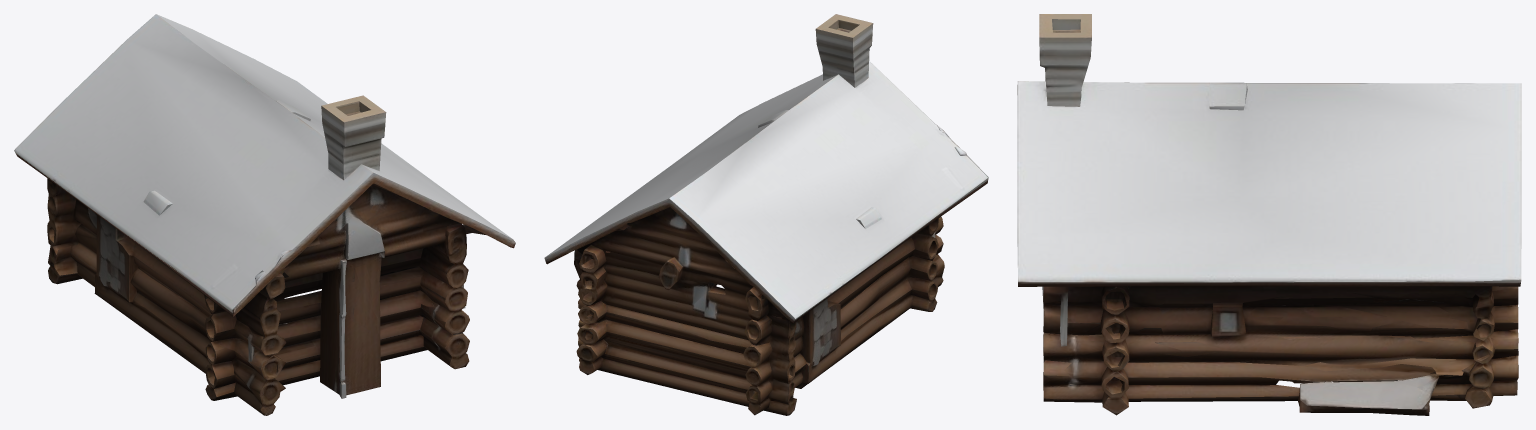
Rendered from cabin_tex.glb.
3 renders of one model, left to right at view 1: azimuth 30°, elevation 25°; view 2: azimuth 150°, elevation 25°; view 3: azimuth 270°, elevation 25°, orthographic. The views are drawn at different scales.
Parts seen in each view (by area): view 1: cabin; view 2: cabin; view 3: cabin.
Part boxes in pixels (x1,y1,x2,y2): cabin: [14, 14, 515, 415]; cabin: [544, 14, 988, 415]; cabin: [1017, 14, 1521, 415].
Bounding box in the file's own units: 1.06 × 1 × 1.42.
1 material, 1 textured.
